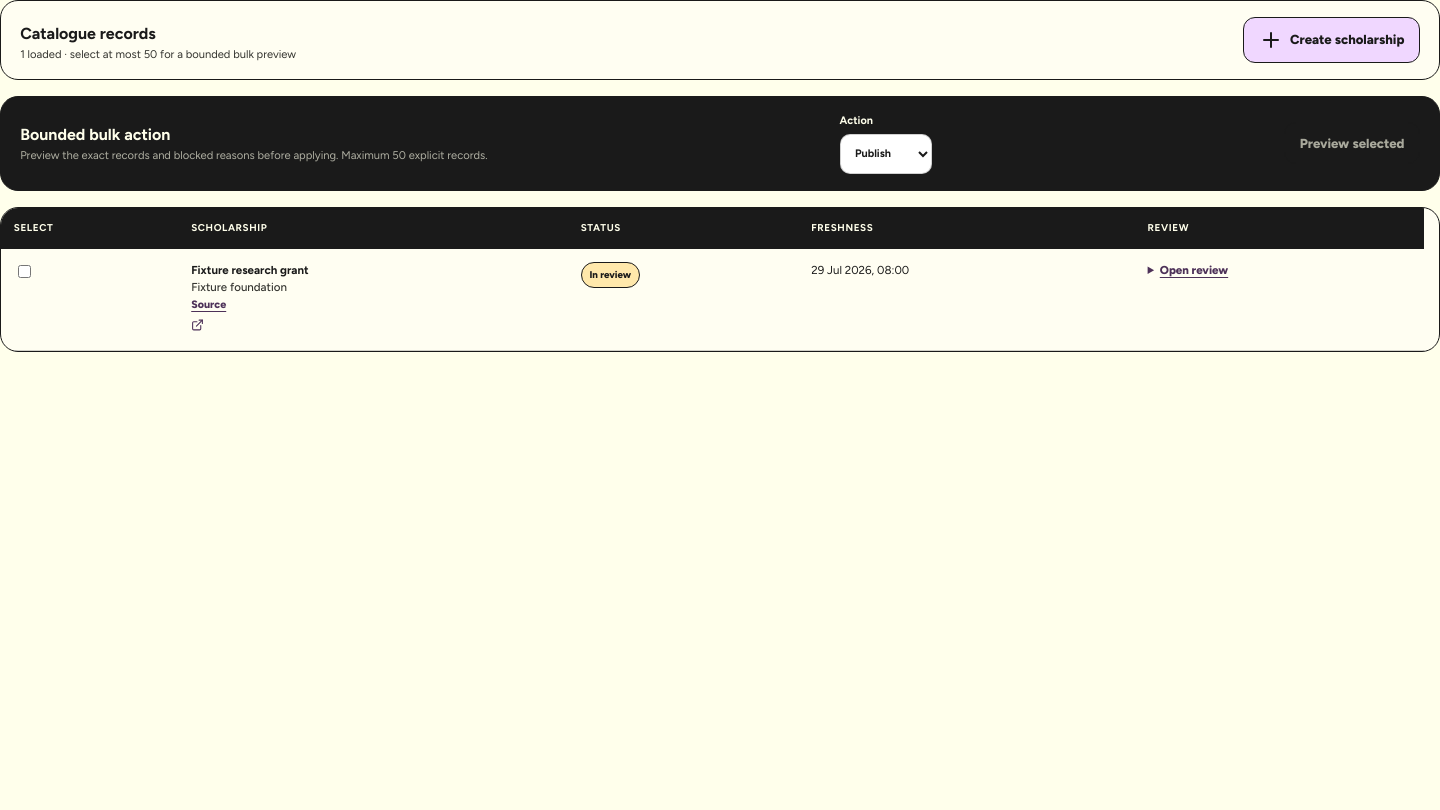
scholarship administration › shows only lifecycle transitions authorized by the API response
Click the heading "Open review" at coordinates (1194, 270), box [1160, 263, 1228, 277]
(page scrolled)
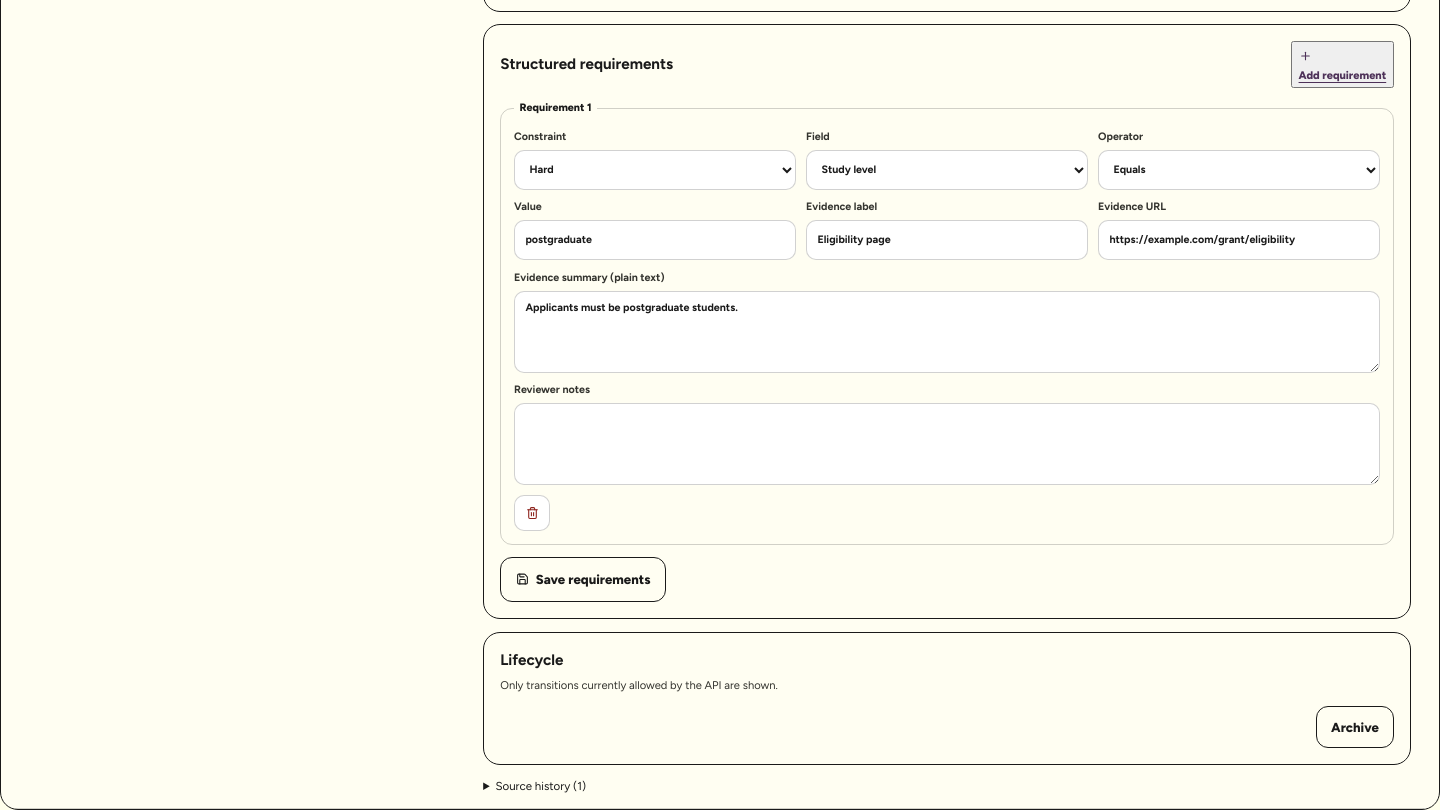
Check: the button "Publish" is not shown
Check: the button "Archive" is shown, box [1316, 706, 1394, 748]
